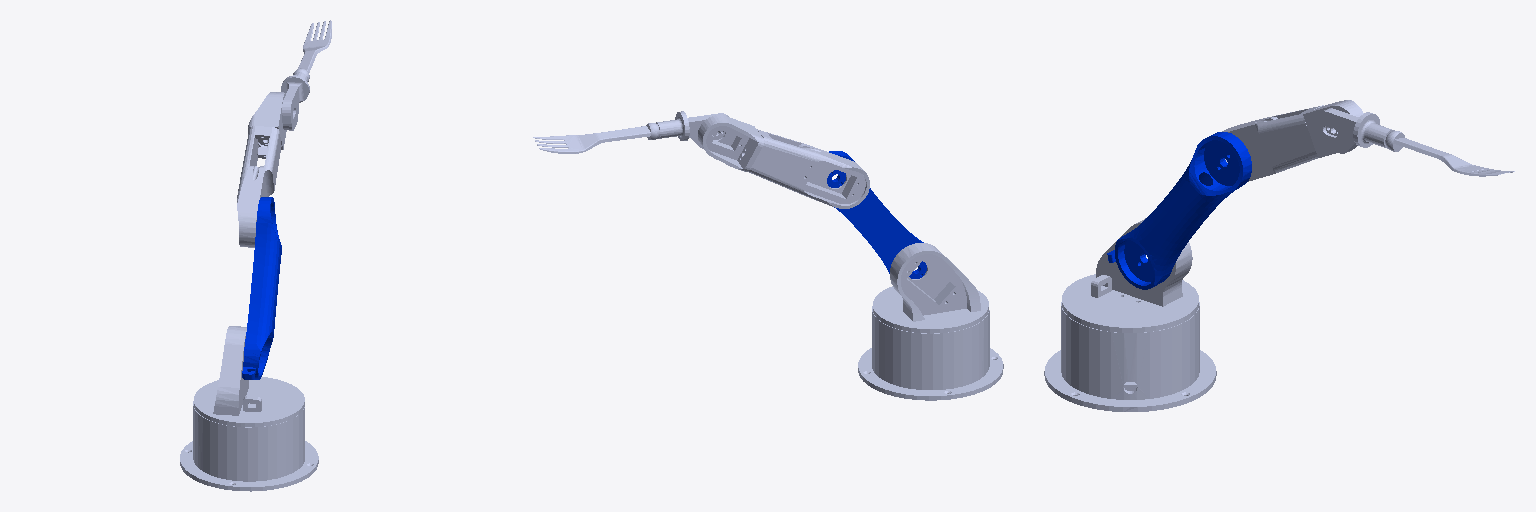
The robot description file, URDF, robot "robot_arm":
<?xml version="1.0" encoding="utf-8"?>
<!-- This URDF was automatically created by SolidWorks to URDF Exporter! Originally created by [author] ([email redacted]) 
     Commit Version: 1.6.0-4-g7f85cfe  Build Version: 1.6.7995.38578
     For more information, please see http://wiki.ros.org/sw_urdf_exporter -->
<robot
  name="robot_arm">
  
  <link name="world"/>
  
  <joint name="world_joint" type="fixed">
    <parent link="world"/>
    <child link="base_link"/>
    <origin xyz="0 0 0" rpy="0 0 0"/>
  </joint>
  
  <link
    name="base_link">
    <inertial>
      <origin
        xyz="0.000117196159259592 7.68725232080936E-09 0.0163035726629275"
        rpy="0 0 0" />
      <mass
        value="0.0960374647687132" />
      <inertia
        ixx="0.000127992374265441"
        ixy="6.84507669967454E-11"
        ixz="3.91396755618814E-06"
        iyy="0.000137660900428952"
        iyz="4.47337777707664E-12"
        izz="0.000207983638444363" />
    </inertial>
    <visual>
      <origin
        xyz="0 0 0"
        rpy="0 0 0" />
      <geometry>
        <mesh
          filename="package://robot_arm_description/meshes/base_link.STL" />
      </geometry>
      <material
        name="">
        <color
          rgba="0.792156862745098 0.819607843137255 0.933333333333333 1" />
      </material>
    </visual>
    <collision>
      <origin
        xyz="0 0 0"
        rpy="0 0 0" />
      <geometry>
        <mesh
          filename="package://robot_arm_description/meshes/base_link.STL" />
      </geometry>
    </collision>
  </link>
  <link
    name="link_1">
    <inertial>
      <origin
        xyz="-0.00414864263261154 0.00510638589359674 0.0172893971363357"
        rpy="0 0 0" />
      <mass
        value="0.0680382266926049" />
      <inertia
        ixx="5.3594660634226E-05"
        ixy="-6.27203699334427E-06"
        ixz="1.13231646661721E-07"
        iyy="4.95562409415516E-05"
        iyz="-8.10968730920396E-06"
        izz="5.467636163819E-05" />
    </inertial>
    <visual>
      <origin
        xyz="0 0 0"
        rpy="0 0 0" />
      <geometry>
        <mesh
          filename="package://robot_arm_description/meshes/link_1.STL" />
      </geometry>
      <material
        name="">
        <color
          rgba="0.792156862745098 0.819607843137255 0.933333333333333 1" />
      </material>
    </visual>
    <collision>
      <origin
        xyz="0 0 0"
        rpy="0 0 0" />
      <geometry>
        <mesh
          filename="package://robot_arm_description/meshes/link_1.STL" />
      </geometry>
    </collision>
  </link>
  <joint
    name="joint_1"
    type="continuous">
    <origin
      xyz="0 0 0.05"
      rpy="0 0 0" />
    <parent
      link="base_link" />
    <child
      link="link_1" />
    <axis
      xyz="0 0 1" />
  </joint>
  <link
    name="link_2">
    <inertial>
      <origin
        xyz="0.0249750944156842 0.0249772859698909 0.0468961083176771"
        rpy="0 0 0" />
      <mass
        value="0.064396141841368" />
      <inertia
        ixx="9.61544573728887E-05"
        ixy="-1.96129401588288E-05"
        ixz="-2.93770475865757E-05"
        iyy="8.73371118665447E-05"
        iyz="-3.67498044712087E-05"
        izz="4.4507328864253E-05" />
    </inertial>
    <visual>
      <origin
        xyz="0 0 0"
        rpy="0 0 0" />
      <geometry>
        <mesh
          filename="package://robot_arm_description/meshes/link_2.STL" />
      </geometry>
      <material
        name="">
        <color
          rgba="0 0.254901960784314 0.92156862745098 1" />
      </material>
    </visual>
    <collision>
      <origin
        xyz="0 0 0"
        rpy="0 0 0" />
      <geometry>
        <mesh
          filename="package://robot_arm_description/meshes/link_2.STL" />
      </geometry>
    </collision>
  </link>
  <joint
    name="joint_2"
    type="continuous">
    <origin
      xyz="0.00873499271692548 0.0108362687265375 0.040276480175933"
      rpy="0 0 0" />
    <parent
      link="link_1" />
    <child
      link="link_2" />
    <axis
      xyz="0.778551124052 -0.627581187765668 0" />
  </joint>
  <link
    name="link_3">
    <inertial>
      <origin
        xyz="0.0128052472574296 0.0340647193385334 0.0186847213480272"
        rpy="0 0 0" />
      <mass
        value="0.0502681192798898" />
      <inertia
        ixx="4.32011391528895E-05"
        ixy="-1.87968422837148E-05"
        ixz="-1.18045403059582E-05"
        iyy="3.45165558874064E-05"
        iyz="-1.48619379367344E-05"
        izz="4.43190576137703E-05" />
    </inertial>
    <visual>
      <origin
        xyz="0 0 0"
        rpy="0 0 0" />
      <geometry>
        <mesh
          filename="package://robot_arm_description/meshes/link_3.STL" />
      </geometry>
      <material
        name="">
        <color
          rgba="0.792156862745098 0.819607843137255 0.933333333333333 1" />
      </material>
    </visual>
    <collision>
      <origin
        xyz="0 0 0"
        rpy="0 0 0" />
      <geometry>
        <mesh
          filename="package://robot_arm_description/meshes/link_3.STL" />
      </geometry>
    </collision>
  </link>
  <joint
    name="joint_3"
    type="continuous">
    <origin
      xyz="0.0452765198294633 0.0561681677105227 0.0958914682762493"
      rpy="0 0 0" />
    <parent
      link="link_2" />
    <child
      link="link_3" />
    <axis
      xyz="-0.778551124051999 0.62758118776567 0" />
  </joint>
  <link
    name="link_4">
    <inertial>
      <origin
        xyz="-0.0117718696694758 -0.0224594299210791 -0.00731996582076389"
        rpy="0 0 0" />
      <mass
        value="0.016499491436809" />
      <inertia
        ixx="3.66487581324487E-06"
        ixy="-1.13581818040864E-06"
        ixz="-5.12400994022922E-07"
        iyy="4.28053026614363E-06"
        iyz="-3.05400205956593E-07"
        izz="3.60163959371384E-06" />
    </inertial>
    <visual>
      <origin
        xyz="0 0 0"
        rpy="0 0 0" />
      <geometry>
        <mesh
          filename="package://robot_arm_description/meshes/link_4.STL" />
      </geometry>
      <material
        name="">
        <color
          rgba="0.792156862745098 0.819607843137255 0.933333333333333 1" />
      </material>
    </visual>
    <collision>
      <origin
        xyz="0 0 0"
        rpy="0 0 0" />
      <geometry>
        <mesh
          filename="package://robot_arm_description/meshes/link_4.STL" />
      </geometry>
    </collision>
  </link>
  <joint
    name="joint_4"
    type="continuous">
    <origin
      xyz="0.066053819111936 0.100267943565289 0.0584895163370014"
      rpy="0 0 0" />
    <parent
      link="link_3" />
    <child
      link="link_4" />
    <axis
      xyz="0.552264856359974 0.685116815282897 0.474993134525457" />
  </joint>
  <link
    name="link_5">
    <inertial>
      <origin
        xyz="-0.0512259253993248 -0.0600862766687876 -0.00480330153133091"
        rpy="0 0 0" />
      <mass
        value="0.0122628916627226" />
      <inertia
        ixx="3.02510506493144E-06"
        ixy="-1.78877095938349E-06"
        ixz="-4.78051886241324E-07"
        iyy="2.40088202838795E-06"
        iyz="-6.05353933747182E-07"
        izz="3.9470456236568E-06" />
    </inertial>
    <visual>
      <origin
        xyz="0 0 0"
        rpy="0 0 0" />
      <geometry>
        <mesh
          filename="package://robot_arm_description/meshes/link_5.STL" />
      </geometry>
      <material
        name="">
        <color
          rgba="0.792156862745098 0.819607843137255 0.933333333333333 1" />
      </material>
    </visual>
    <collision>
      <origin
        xyz="0 0 0"
        rpy="0 0 0" />
      <geometry>
        <mesh
          filename="package://robot_arm_description/meshes/link_5.STL" />
      </geometry>
    </collision>
  </link>
  <joint
    name="joint_5"
    type="continuous">
    <origin
      xyz="0.0658770416469138 0.0497166404170352 0.006958042593945"
      rpy="0 0 0" />
    <parent
      link="link_4" />
    <child
      link="link_5" />
    <axis
      xyz="0.650673886413552 0.759313420493717 0.00816229119891543" />
  </joint>
  <link
    name="link_6">
    <inertial>
      <origin
        xyz="-0.0101934963348007 -0.0117464957039731 0.00033075177043812"
        rpy="0 0 0" />
      <mass
        value="0.00291124967087628" />
      <inertia
        ixx="6.19055743826587E-07"
        ixy="-4.62957237829888E-07"
        ixz="-6.95310132008666E-10"
        iyy="4.82892780554864E-07"
        iyz="1.26580186551905E-08"
        izz="1.05766876849935E-06" />
    </inertial>
    <visual>
      <origin
        xyz="0 0 0"
        rpy="0 0 0" />
      <geometry>
        <mesh
          filename="package://robot_arm_description/meshes/link_6.STL" />
      </geometry>
      <material
        name="">
        <color
          rgba="0.792156862745098 0.819607843137255 0.933333333333333 1" />
      </material>
    </visual>
    <collision>
      <origin
        xyz="0 0 0"
        rpy="0 0 0" />
      <geometry>
        <mesh
          filename="package://robot_arm_description/meshes/link_6.STL" />
      </geometry>
    </collision>
  </link>
  <joint
    name="joint_6"
    type="continuous">
    <origin
      xyz="0 0 0"
      rpy="0 0 0" />
    <parent
      link="link_5" />
    <child
      link="link_6" />
    <axis
      xyz="0.65067 0.75931 0.0081623" />
  </joint>
  
  <!-- ros2_control configuration -->
  <ros2_control name="arm_controller" type="system">
    <hardware>
      <plugin>mock_components/GenericSystem</plugin>
    </hardware>
    <joint name="joint_1">
      <command_interface name="effort"/>
      <state_interface name="position"/>
      <state_interface name="velocity"/>
    </joint>
    <joint name="joint_2">
      <command_interface name="effort"/>
      <state_interface name="position"/>
      <state_interface name="velocity"/>
    </joint>
    <joint name="joint_3">
      <command_interface name="effort"/>
      <state_interface name="position"/>
      <state_interface name="velocity"/>
    </joint>
    <joint name="joint_4">
      <command_interface name="effort"/>
      <state_interface name="position"/>
      <state_interface name="velocity"/>
    </joint>
    <joint name="joint_5">
      <command_interface name="effort"/>
      <state_interface name="position"/>
      <state_interface name="velocity"/>
    </joint>
    <joint name="joint_6">
      <command_interface name="effort"/>
      <state_interface name="position"/>
      <state_interface name="velocity"/>
    </joint>
  </ros2_control>
</robot>

--- Render facts (derived) ---
The picture shows the robot from 3 angles, left to right: view 1: azimuth 30°, elevation 25°; view 2: azimuth 150°, elevation 25°; view 3: azimuth 270°, elevation 25°; orthographic projection.
Model robot_arm with 8 links and 7 joints (6 continuous, 1 fixed), rooted at world, posed all joints at 0.
Visible links, largest first — view 1: base_link, link_1, link_2, link_3, link_5, link_4, link_6; view 2: base_link, link_1, link_3, link_2, link_4, link_6, link_5; view 3: base_link, link_2, link_1, link_3, link_5, link_6, link_4.
Link boxes in pixels (x1,y1,x2,y2): base_link: [180, 401, 318, 491]; link_1: [194, 326, 304, 426]; link_2: [242, 197, 281, 379]; link_3: [237, 126, 281, 247]; link_5: [281, 72, 309, 130]; link_4: [248, 92, 286, 149]; link_6: [293, 20, 331, 81]; base_link: [858, 306, 1003, 400]; link_1: [873, 243, 988, 333]; link_3: [748, 129, 869, 208]; link_2: [827, 151, 926, 278]; link_4: [698, 115, 763, 171]; link_6: [533, 123, 659, 153]; link_5: [656, 111, 728, 148]; base_link: [1044, 302, 1216, 411]; link_2: [1107, 132, 1251, 289]; link_1: [1062, 218, 1198, 332]; link_3: [1222, 105, 1323, 181]; link_5: [1315, 108, 1394, 153]; link_6: [1385, 131, 1514, 176]; link_4: [1303, 100, 1363, 157].
Size in the robot's own frame: 0.2936 by 0.332 by 0.2703 metres.
7 mesh visuals loaded from 7 distinct referenced files (7 binary STL).